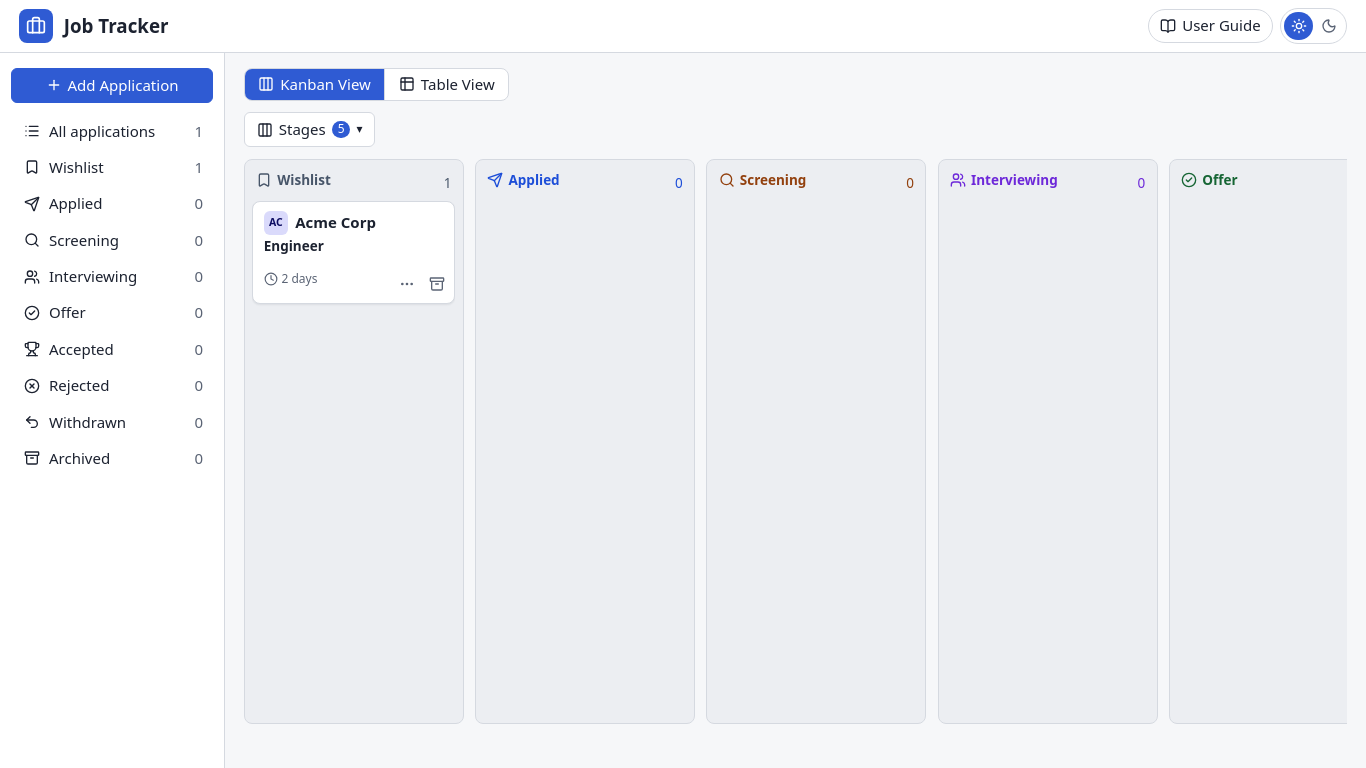
the Website field in the application form (spec 017, AC-7) › is in the Add application form too, and follows a known company typed there
The image size is (1366, 768).
Click the button "Add Application".
click(112, 85)  # box [11,68,213,102]
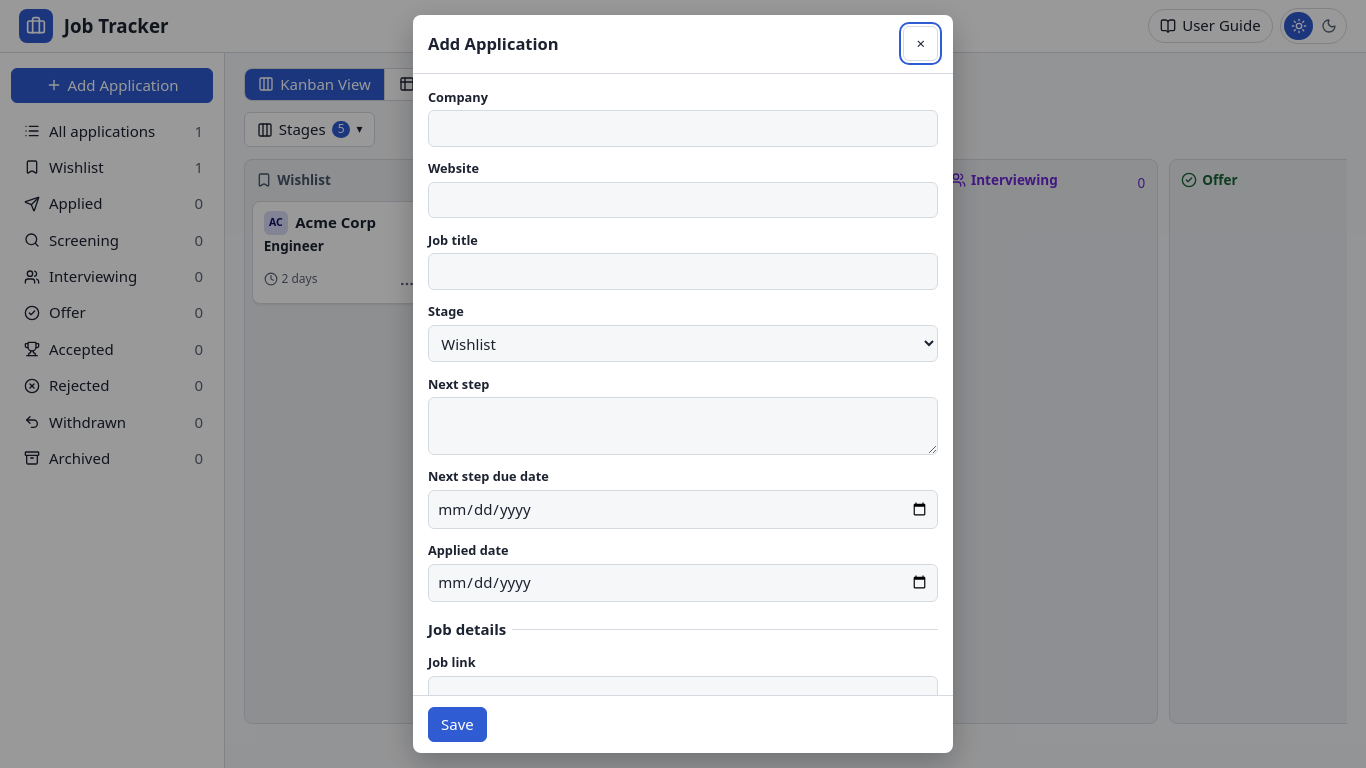
Now the field labelled "Website" is empty, box [428,182,938,218]
Type "Globex" into the field labelled "Company".
click(683, 128); type("Globex")  # box [428,110,938,147]
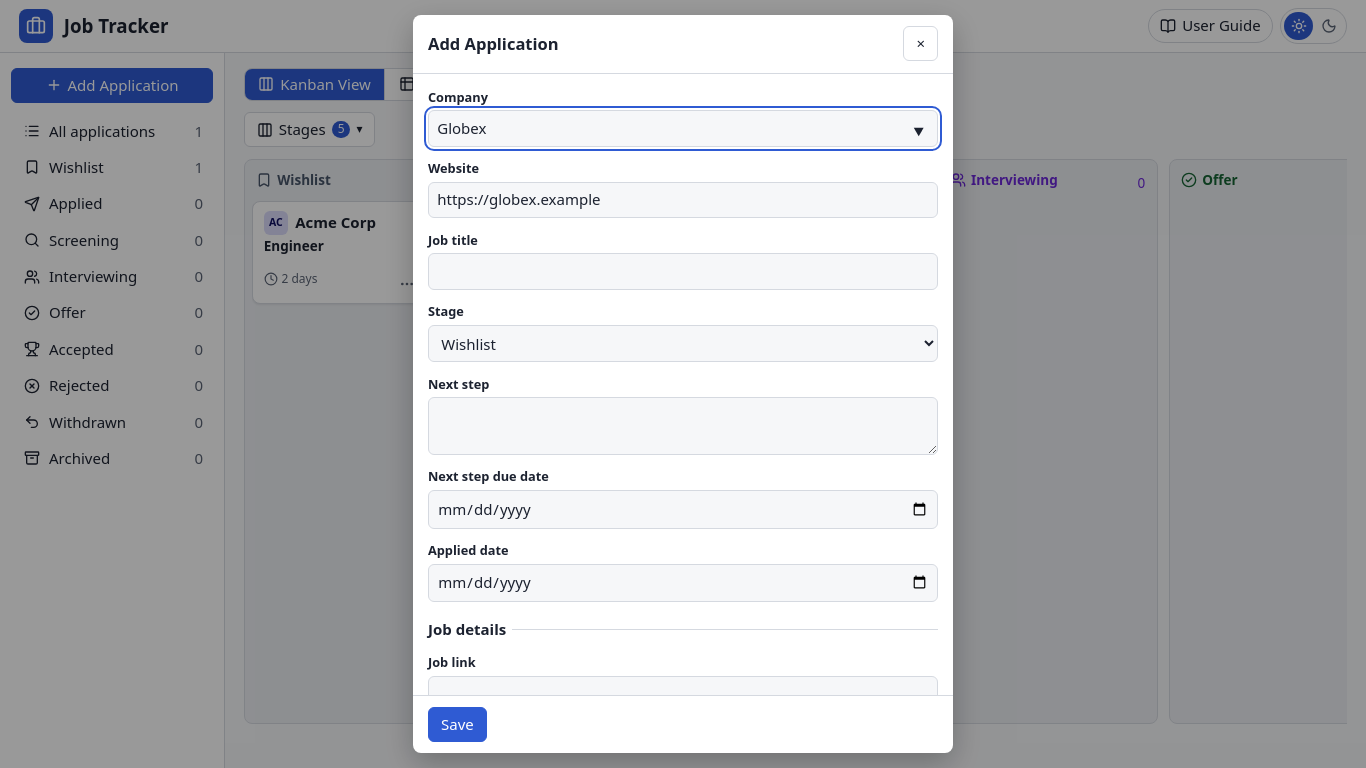
Now the field labelled "Website" holds "https://globex.example", box [428,182,938,218]
Type "Designer" into the field labelled "Job title".
click(683, 272); type("Designer")  # box [428,253,938,290]
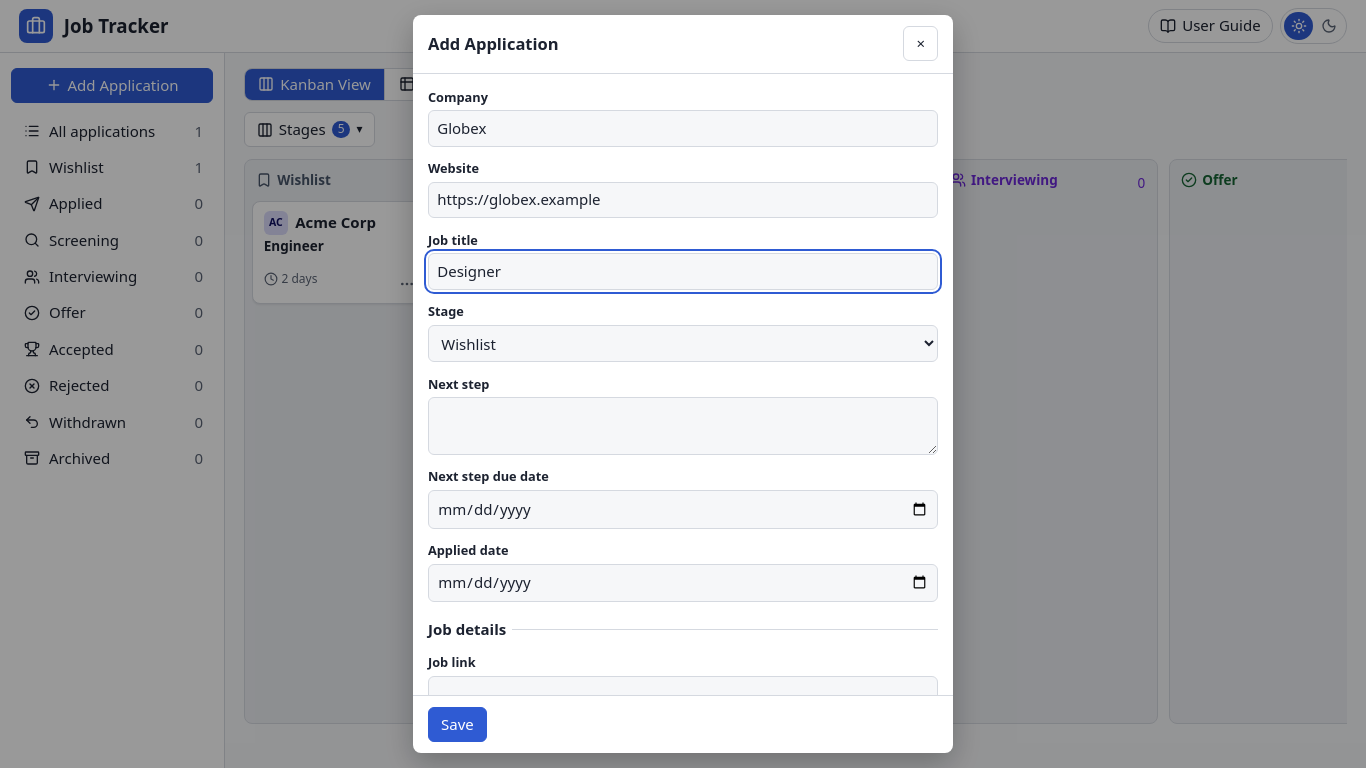
Click the button "Save".
click(457, 724)  # box [428,707,487,742]
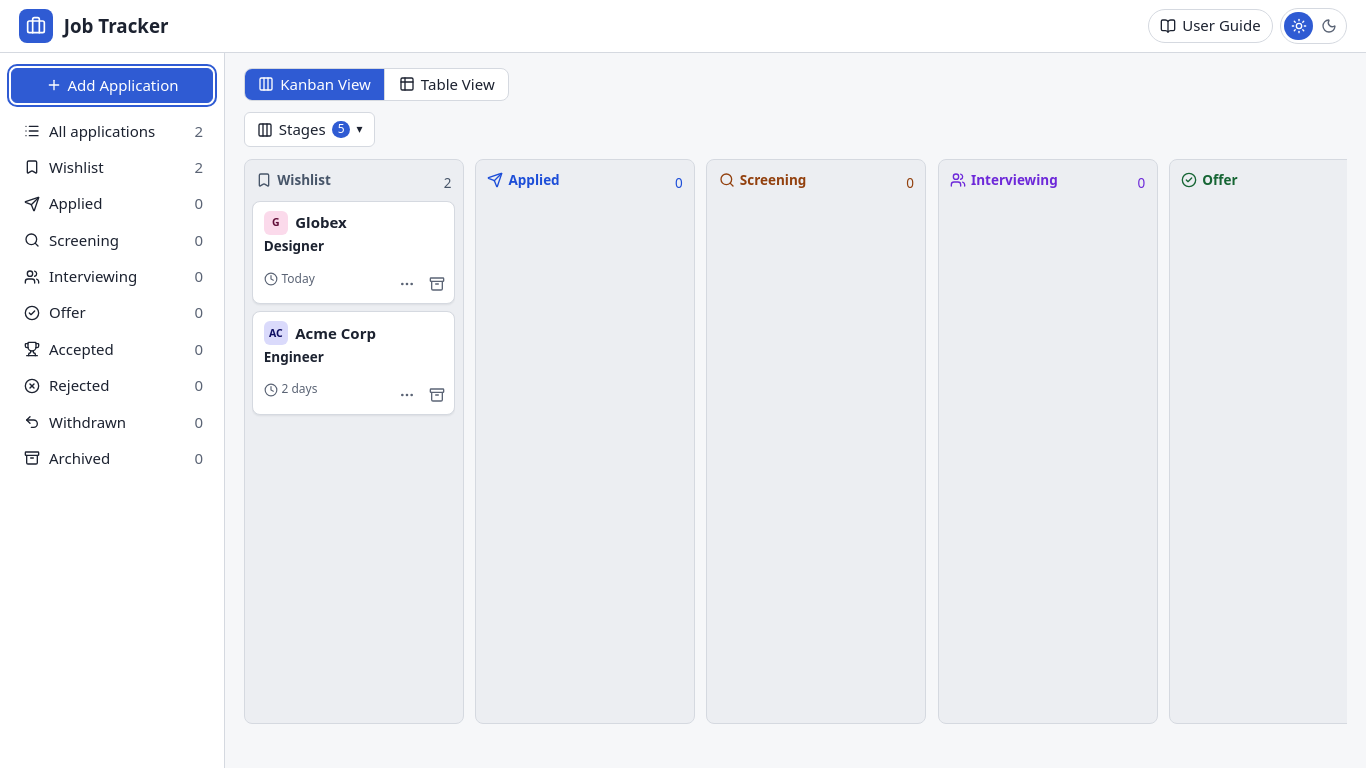
Now the button "G Globex Designer Today" is shown, box [252,201,455,304]
